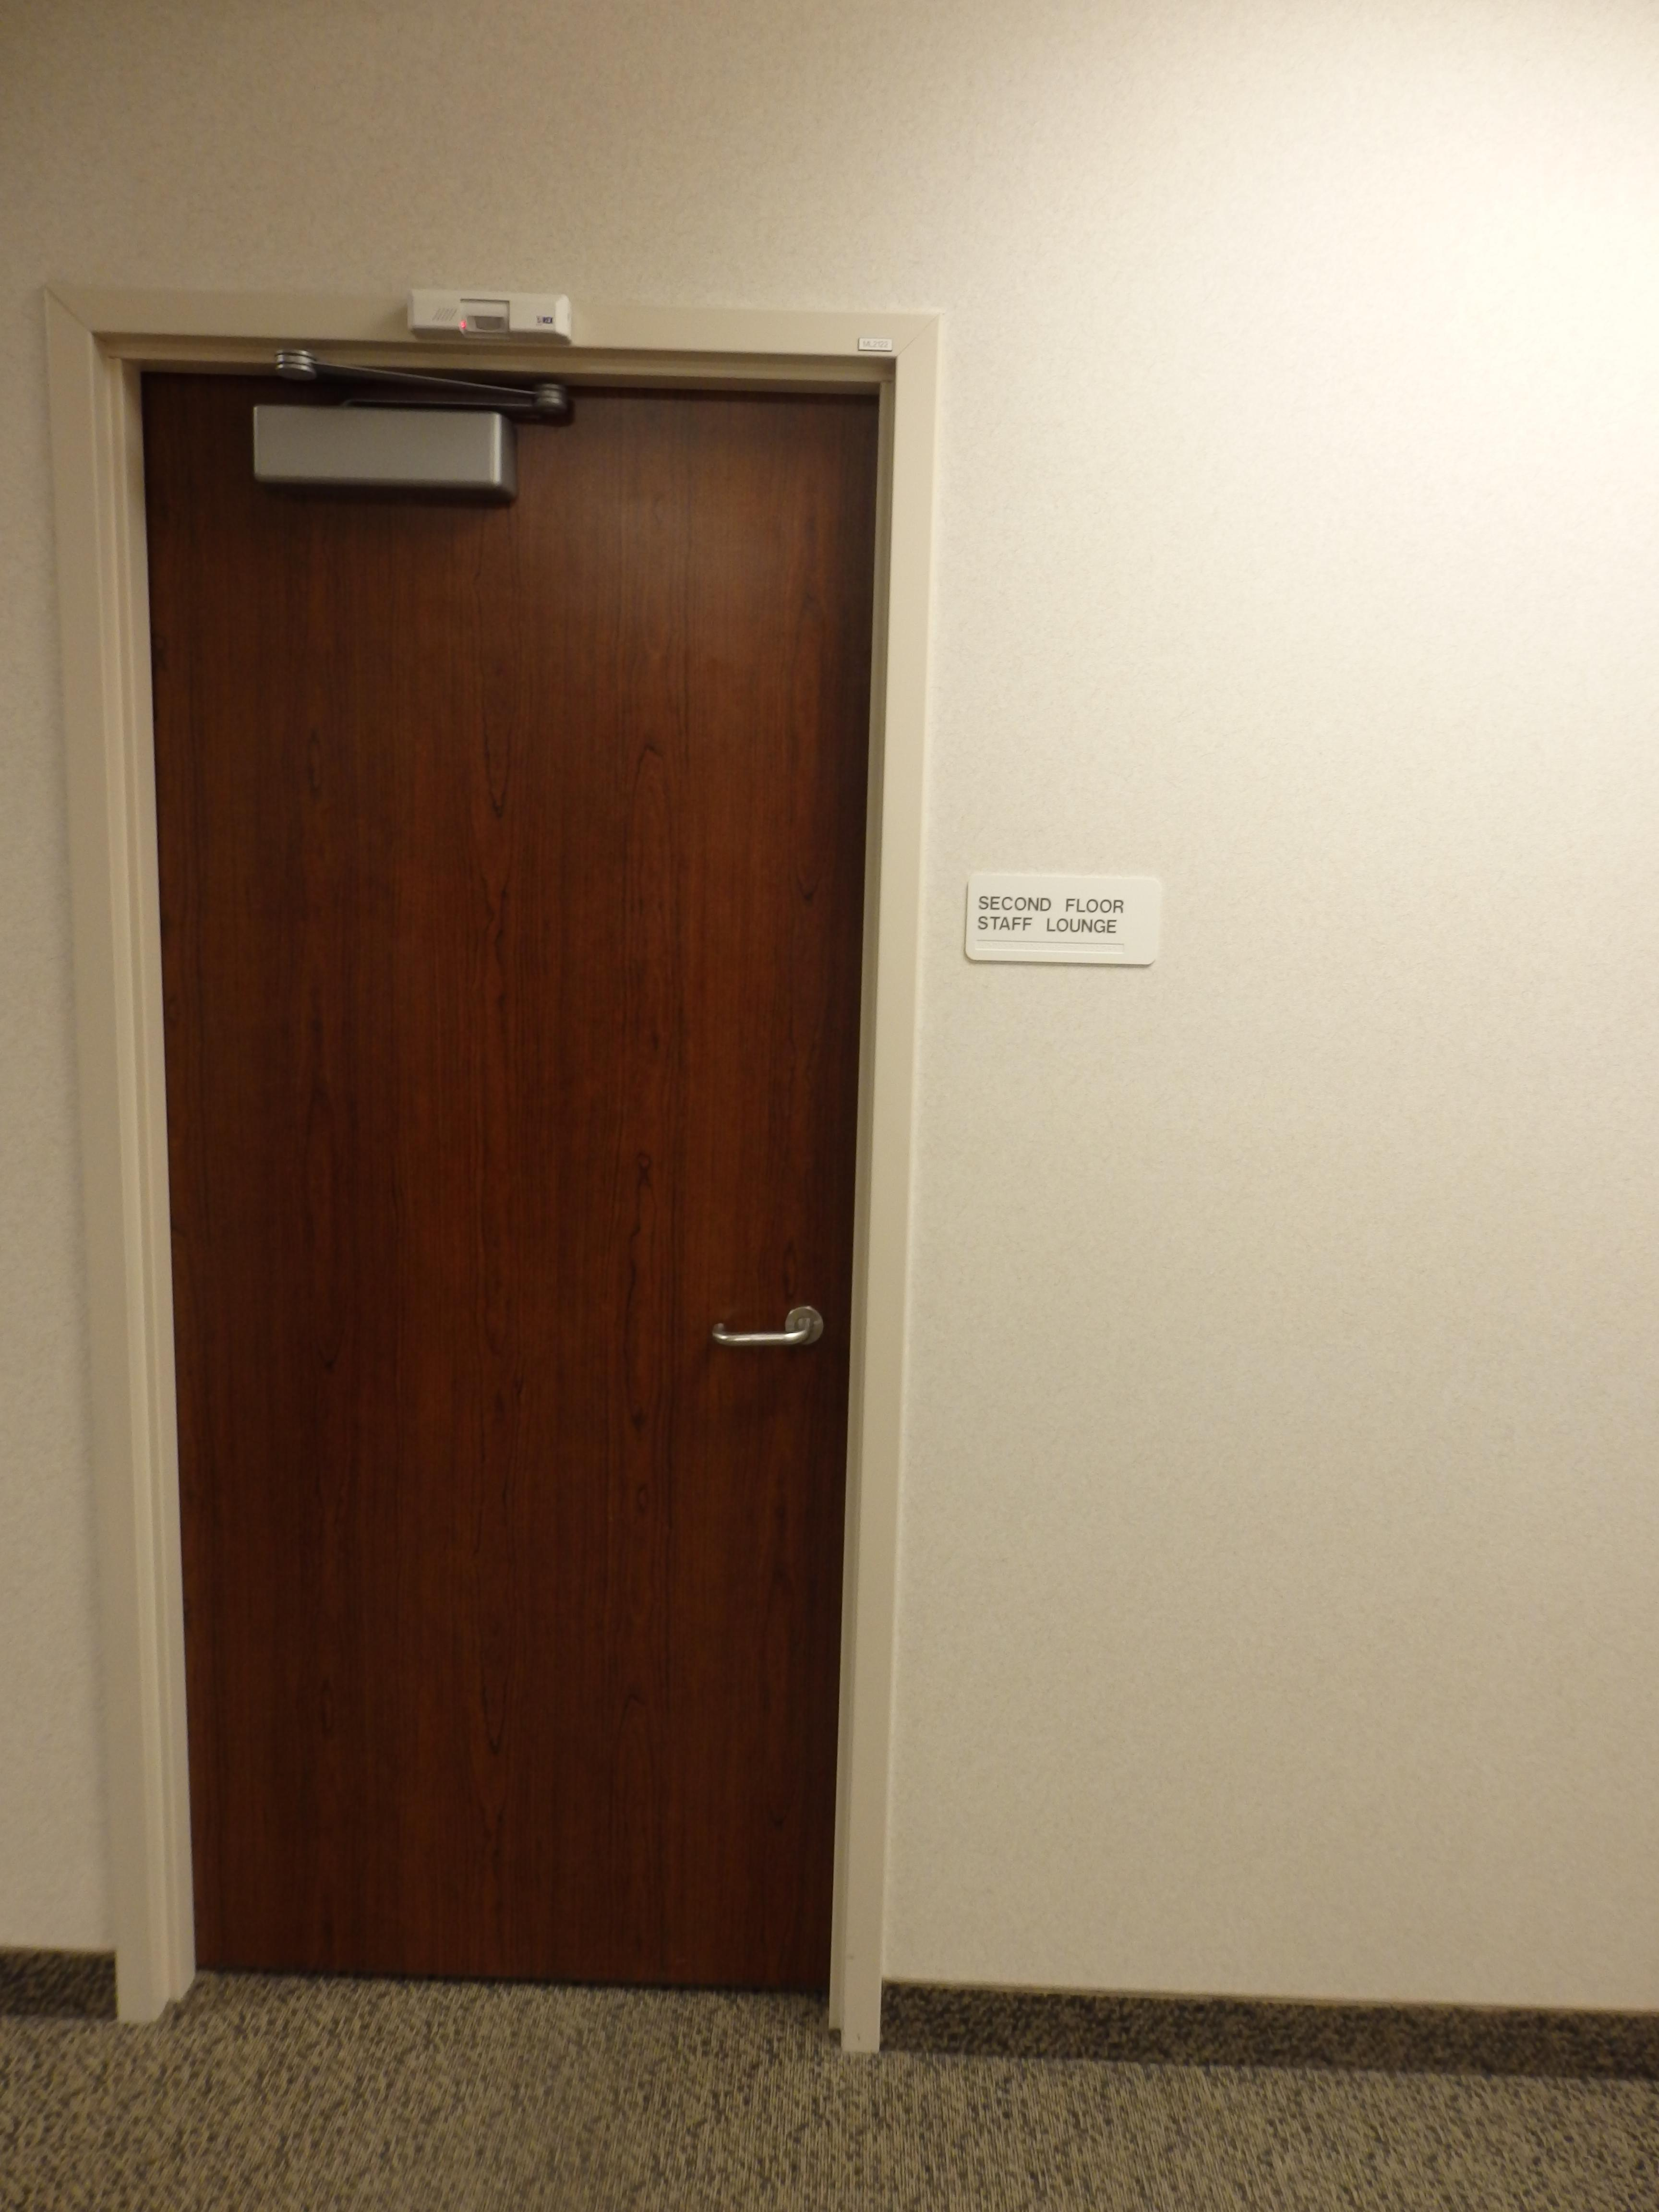door: (117, 334, 878, 2022)
